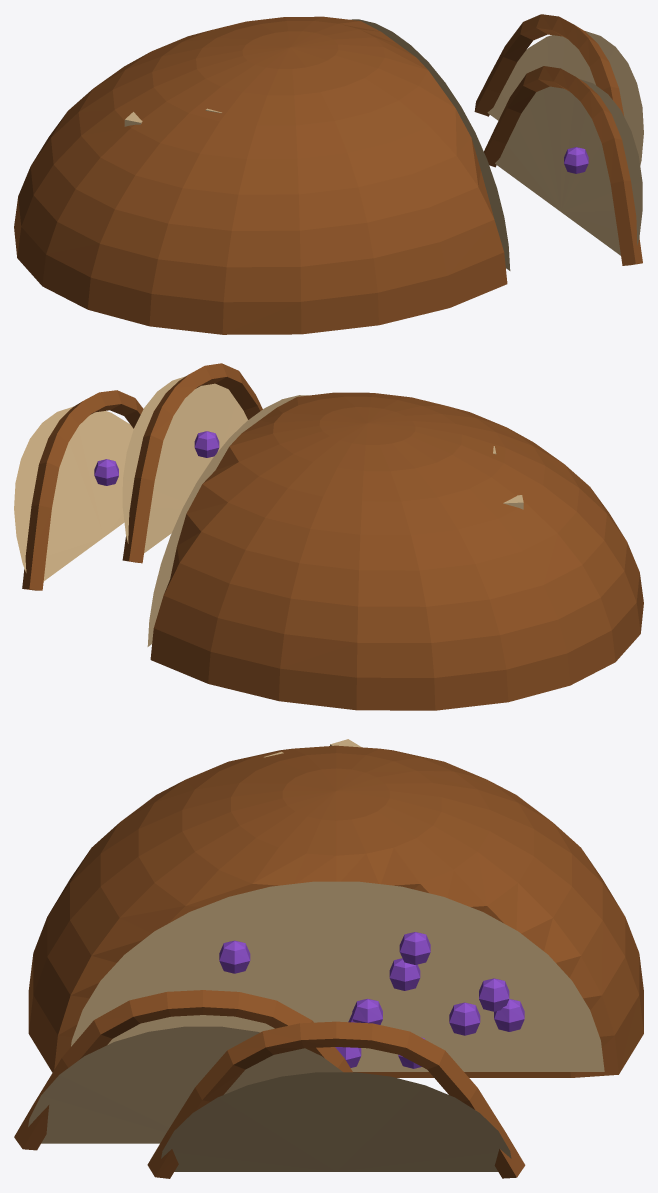
The model's file is VFP_Secret_DvergrMushroomLoaf.obj.
3 renders of one model, top to bottom at view 1: azimuth 30°, elevation 25°; view 2: azimuth 150°, elevation 25°; view 3: azimuth 270°, elevation 25°, orthographic. The views are drawn at different scales.
Visible parts, largest first — view 1: Loaf, Slice, Slice_crust, Face, Slice_magecap; view 2: Loaf, Slice, Slice_crust, Face, Slice_magecap; view 3: Loaf, Face, Slice, Slice_crust, Mage.
Boxes of the visible parts, left/top/right/bottom form: Loaf: left=14, top=16, right=507, bottom=334; Slice: left=487, top=31, right=643, bottom=255; Slice_crust: left=474, top=14, right=642, bottom=265; Face: left=351, top=19, right=510, bottom=270; Slice_magecap: left=564, top=147, right=588, bottom=173; Loaf: left=150, top=392, right=643, bottom=710; Slice: left=14, top=376, right=247, bottom=581; Slice_crust: left=22, top=363, right=262, bottom=590; Face: left=147, top=395, right=308, bottom=646; Slice_magecap: left=94, top=431, right=219, bottom=485; Loaf: left=28, top=745, right=643, bottom=1077; Face: left=71, top=881, right=604, bottom=1071; Slice: left=28, top=1026, right=511, bottom=1171; Slice_crust: left=14, top=990, right=525, bottom=1178; Mage: left=219, top=932, right=524, bottom=1068.
Size of the model in its own units: 0.365 by 0.1128 by 0.2838.
